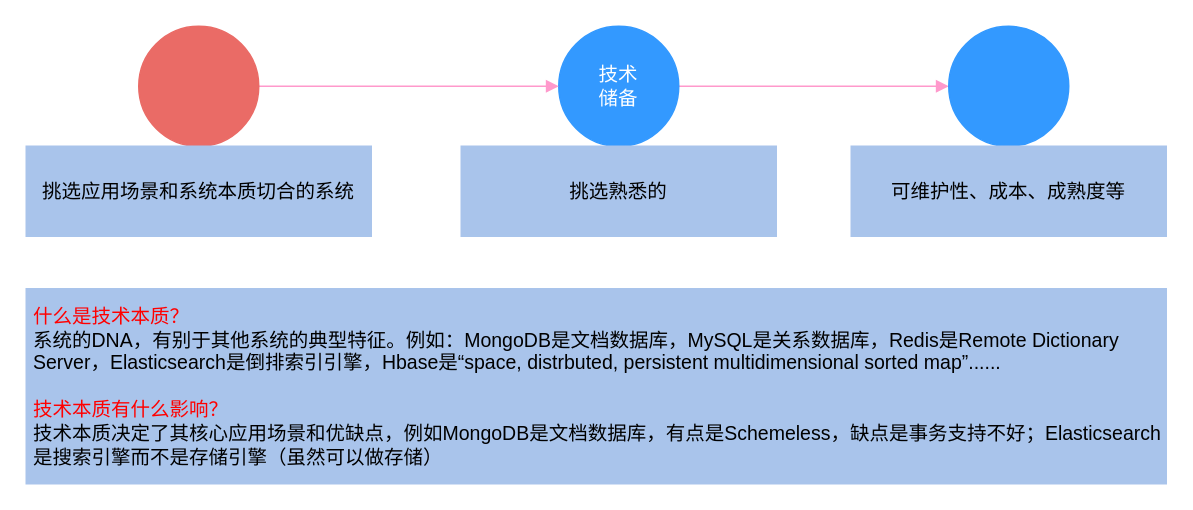
Some shapes in this 1193 by 510 pixel diagram are drawn without their labels. The centre of each missing label's shape, as x and y in pixels:
"技术 本质" belongs at [198,85].
"综合 考虑" belongs at [1008,85].
